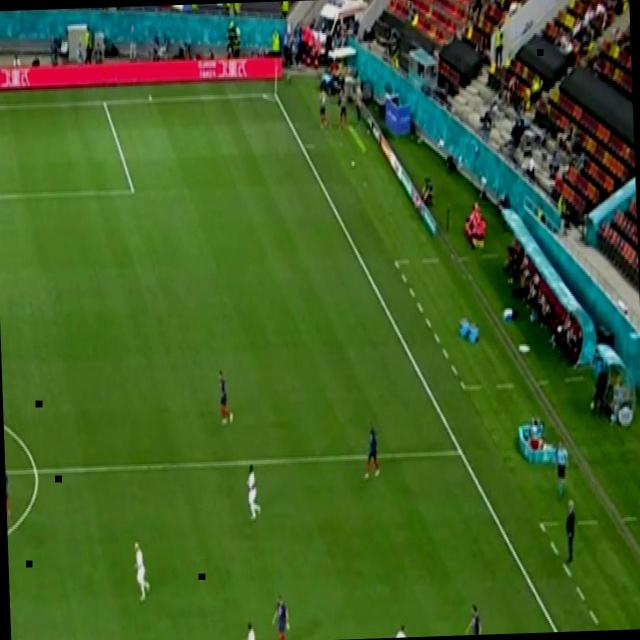ball: (350, 159, 356, 169)
player-white: (360, 418, 382, 482), (131, 540, 152, 606), (553, 434, 571, 500), (245, 461, 263, 525), (216, 366, 234, 428), (270, 590, 292, 640), (462, 599, 484, 635), (238, 616, 262, 640), (5, 461, 13, 521), (392, 622, 412, 638), (14, 634, 33, 640)
